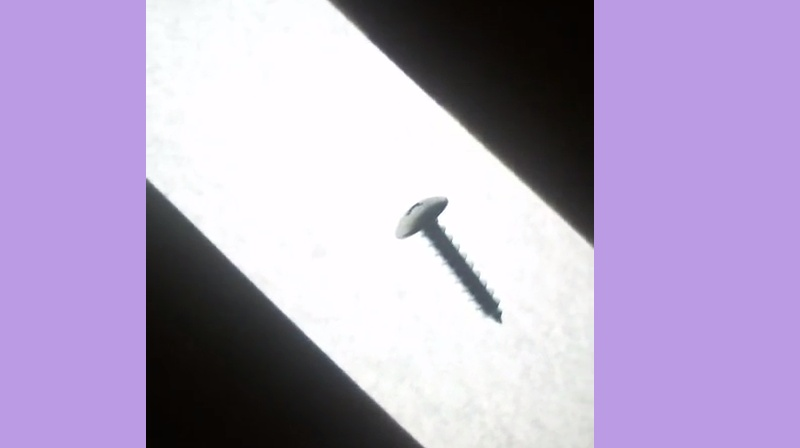S003: (391, 190, 504, 328)
